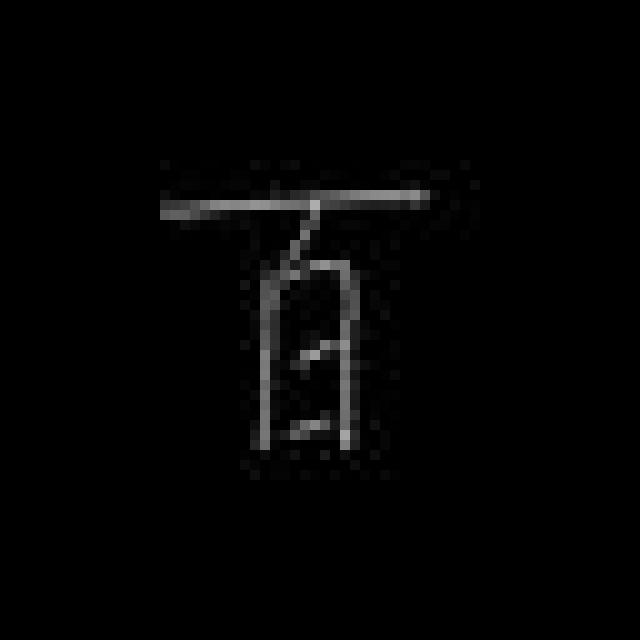100 -a hundred-: (141, 172, 445, 476)
